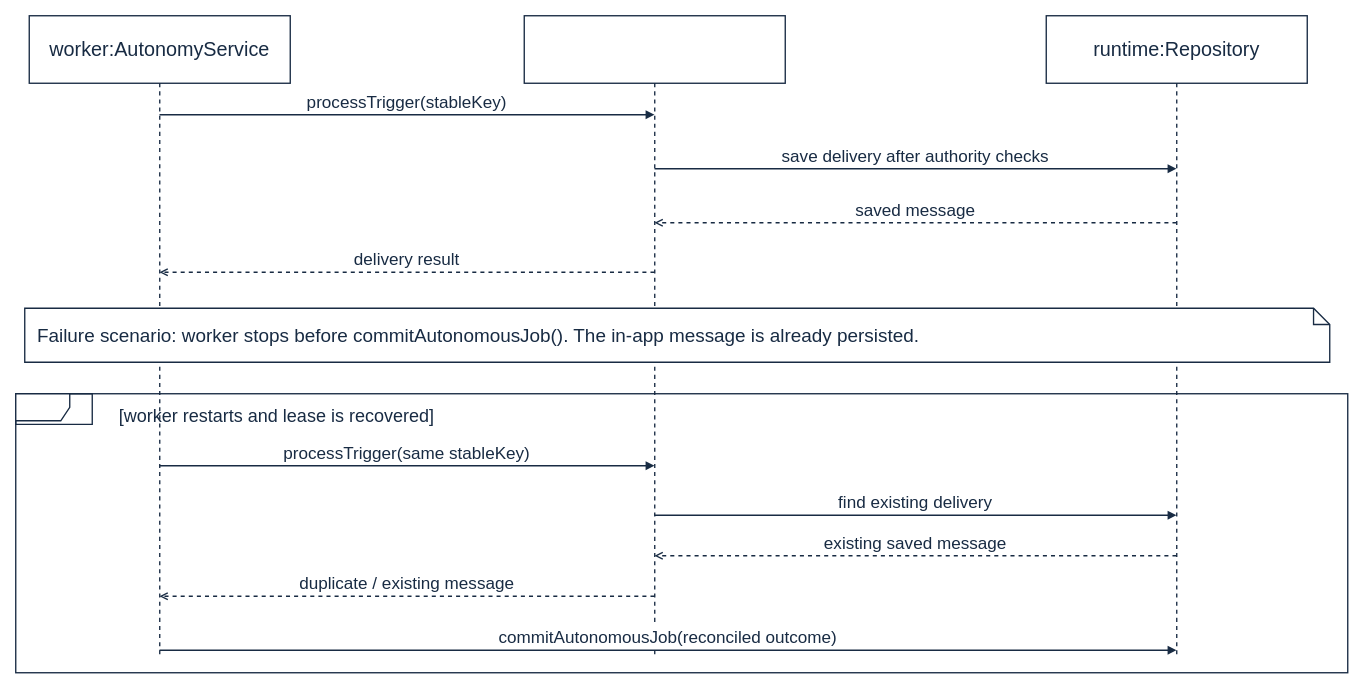
Some shapes in this 1364 by 689 pixel diagram are drawn without their labels. Here are the shapes that lost their labels. From the top down, the box of each, then its label:
(523, 15, 786, 655): outreach:Service
(15, 393, 93, 425): opt
